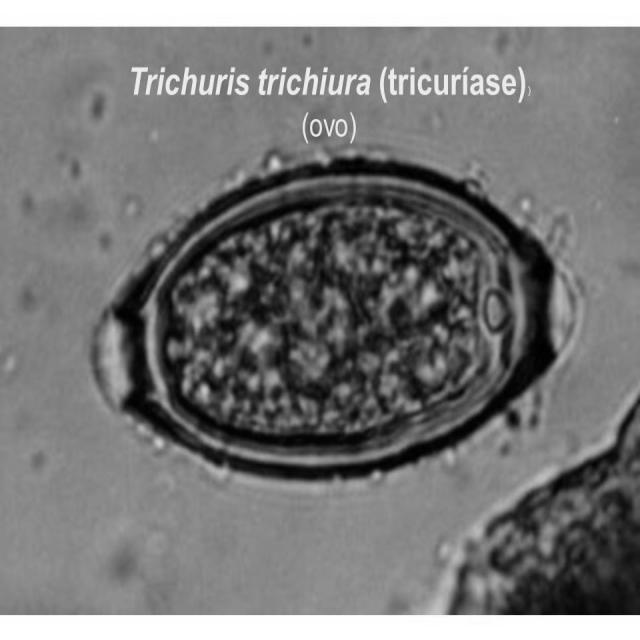Trichuris Trichiura: (82, 145, 584, 496)
